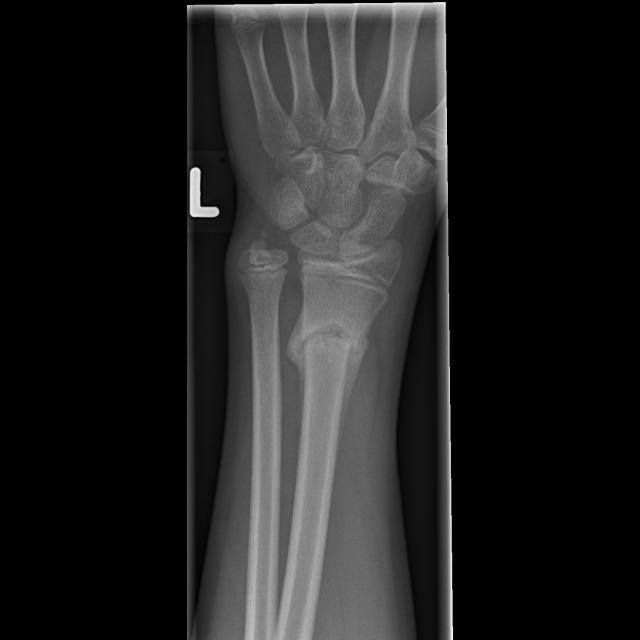radius fracture: (284, 294, 395, 492)
